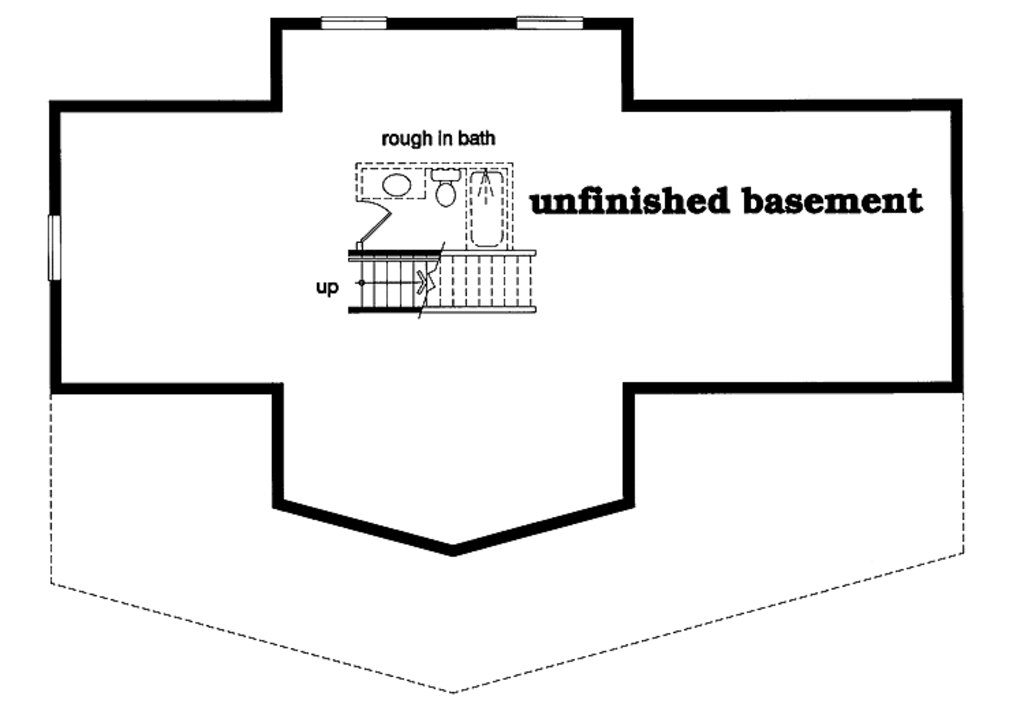door: (344, 198, 404, 250)
large_sink: (426, 163, 466, 207)
small_sink: (354, 159, 427, 200)
stairs: (339, 251, 566, 322)
tub: (464, 170, 517, 253)
window: (41, 207, 77, 297), (310, 5, 401, 37), (513, 11, 582, 35)
